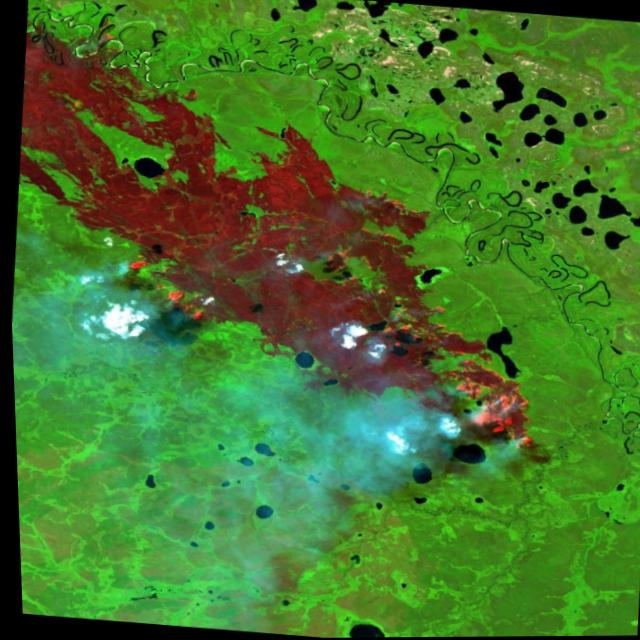fire: (1, 21, 568, 456)
